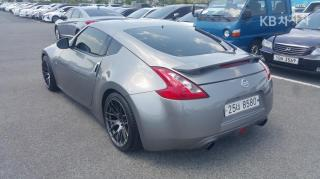0: (253, 97, 257, 106)
2: (228, 104, 232, 115)
5: (232, 103, 236, 113), (246, 99, 250, 108)
8: (242, 99, 246, 109), (249, 98, 253, 107)
너: (236, 102, 241, 111)
